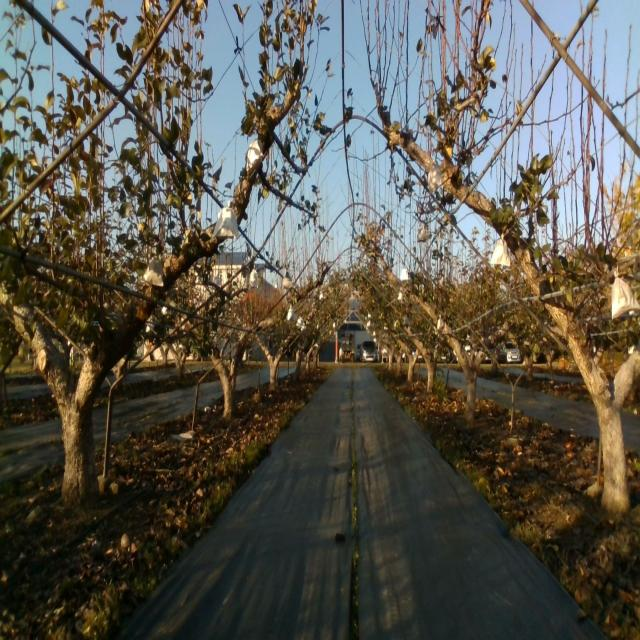pearbags: (611, 269, 640, 323), (212, 200, 240, 239), (490, 230, 512, 267), (143, 252, 165, 284), (246, 139, 264, 173), (428, 160, 442, 194)
